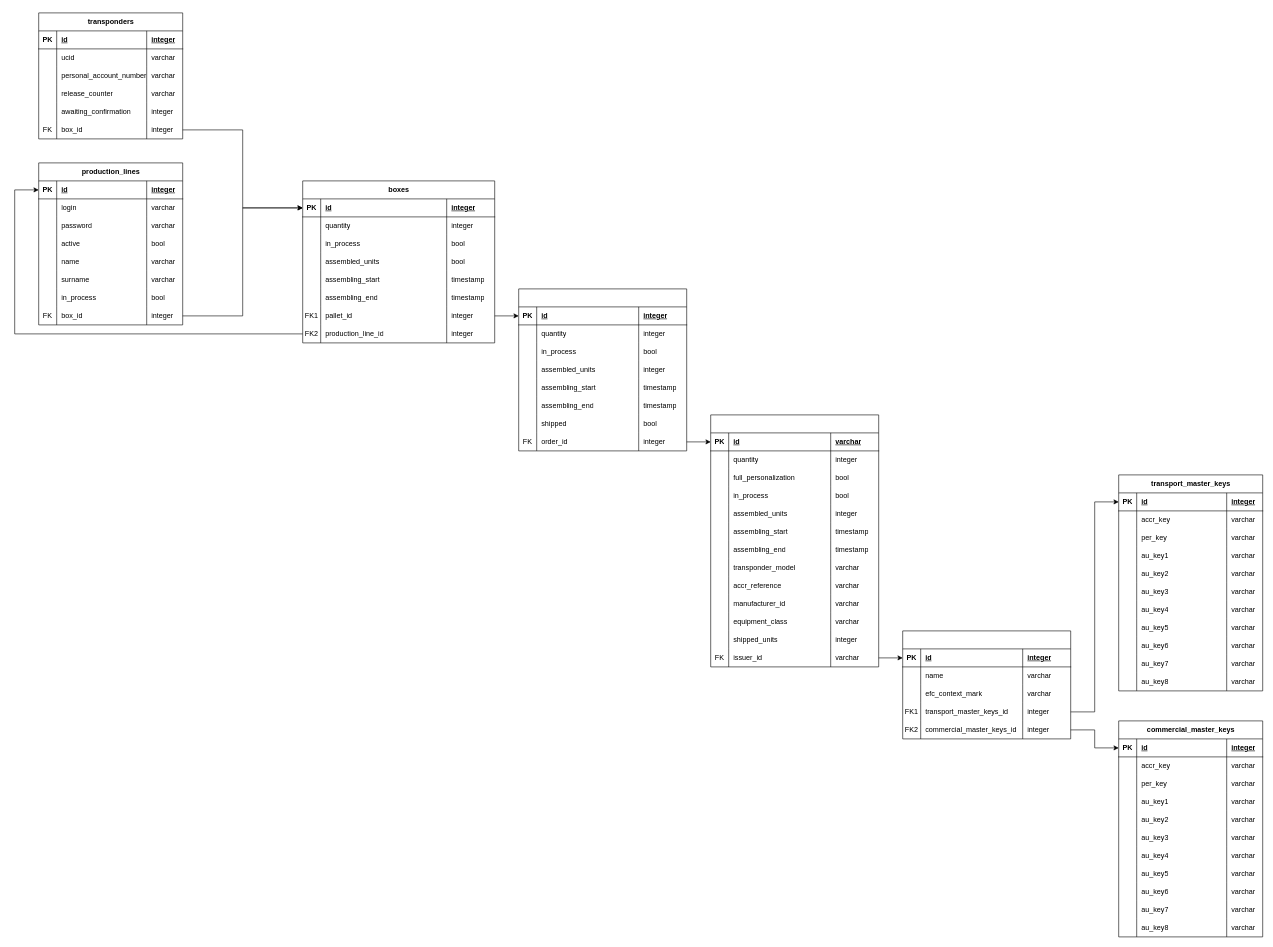
Some shapes in this 1273 by 947 pixel diagram are drawn without their labels. The box of each missing label's shape, as (x1, y1, x2, y2) in pixels:
issuers: (902, 630, 1071, 739)
orders: (710, 414, 879, 667)
pallets: (518, 288, 687, 451)
